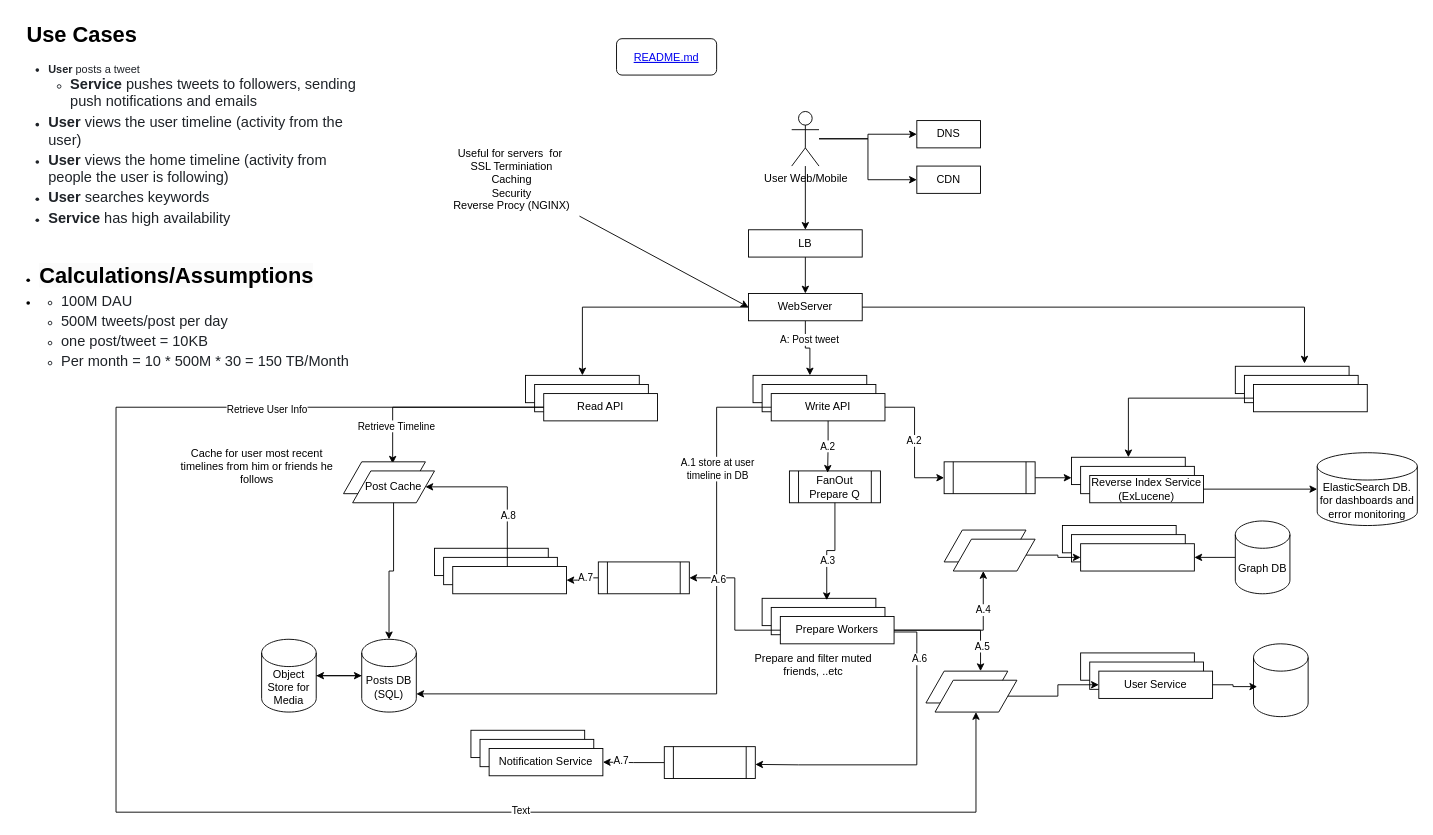
The diagram is 1433 pixels wide and 835 high, and some of its shapes have lost their labels. Here are the shapes that lost their labels. From the top down, the centre of each, then its label:
At [1310,398]: "Search API".
At [989,477]: "Analysis Q".
At [993,554]: "FriendList Cache".
At [1137,557]: "UserGraph Service".
At [509,580]: "Publish Worker".
At [643,577]: "FanOut Publish Q".
At [975,695]: "User Cache".
At [1280,680]: "UserDB".
At [709,762]: "Notification Q".
